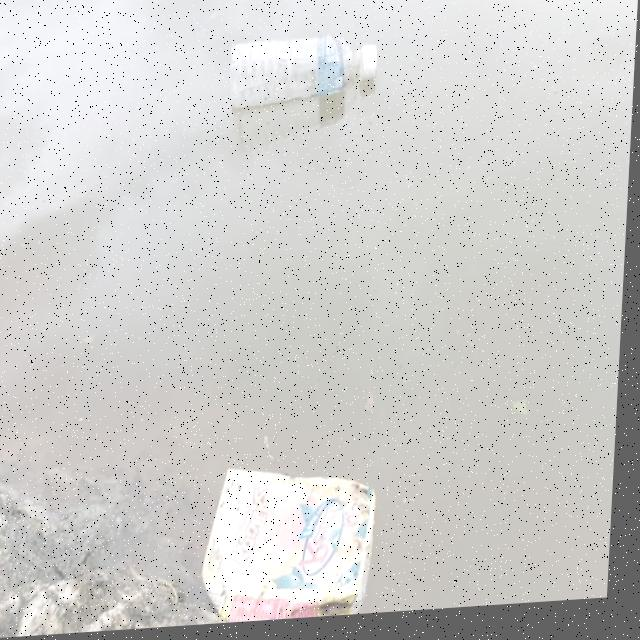paper: (209, 458, 397, 628), (312, 0, 407, 3)
waterbottle: (213, 15, 401, 136)
